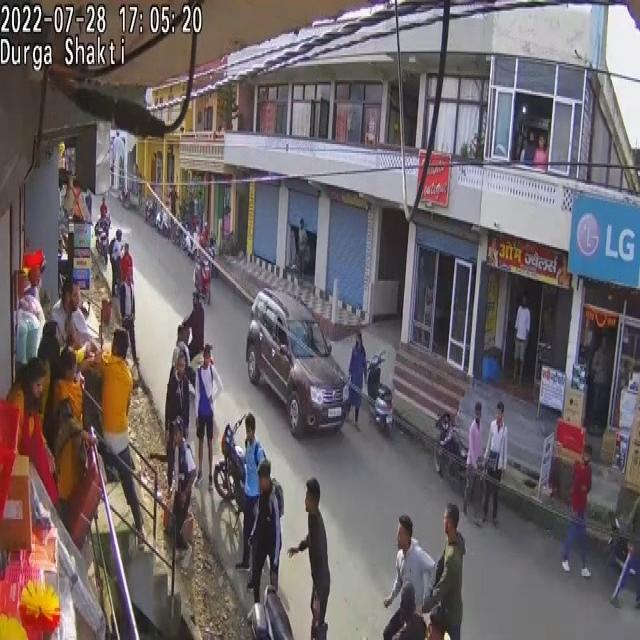fight: (6, 198, 150, 563), (7, 356, 61, 506), (52, 348, 95, 508), (51, 278, 98, 360), (14, 256, 46, 369)
non-fight: (97, 328, 145, 540), (287, 477, 331, 640), (382, 513, 435, 635), (426, 504, 466, 640), (236, 414, 267, 572), (559, 441, 593, 576), (194, 346, 224, 490), (166, 419, 198, 554), (164, 346, 192, 496), (480, 402, 508, 528), (118, 252, 140, 370), (463, 402, 485, 518), (178, 296, 205, 370), (347, 332, 367, 428), (513, 293, 531, 384), (109, 228, 123, 297)
